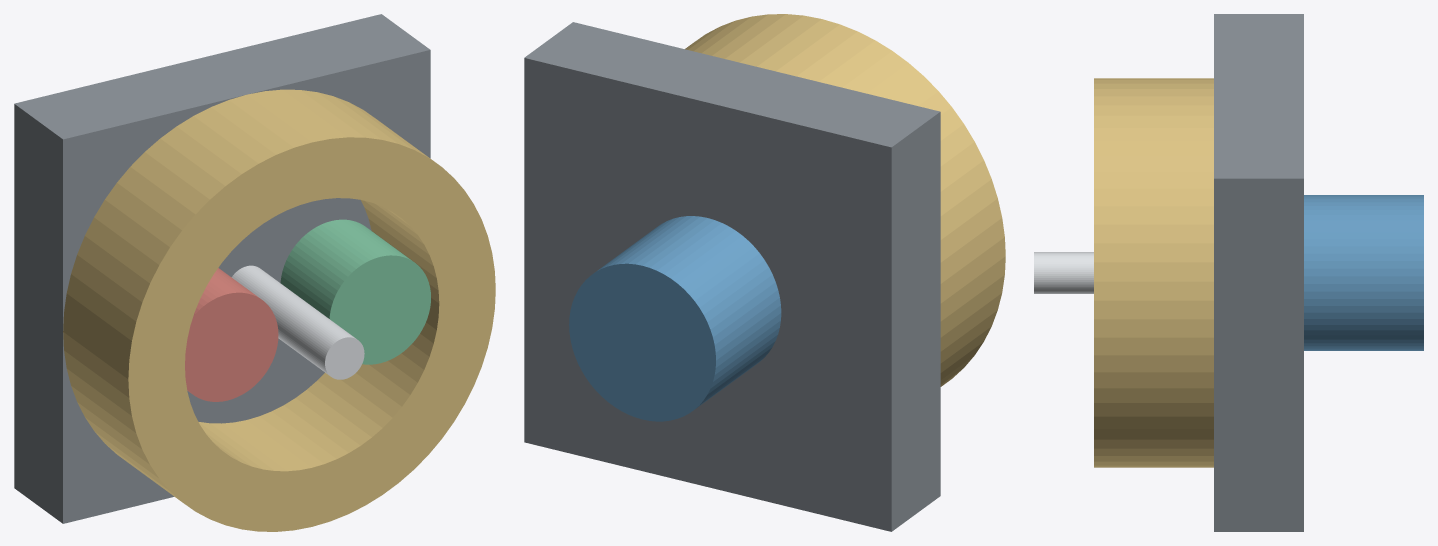
The model's file is pellet.glb.
3 views of the same model, side by side, from view 1: azimuth 30°, elevation 25°; view 2: azimuth 150°, elevation 25°; view 3: azimuth 270°, elevation 25° (orthographic). The views are drawn at different scales.
Parts seen in each view (by area): view 1: ring_die, frame, roller_right, roller_left, shaft; view 2: frame, motor, ring_die; view 3: ring_die, frame, motor, shaft.
Part boxes in pixels (x1,y1,x2,y2): ring_die: [63, 89, 495, 531]; frame: [14, 14, 430, 523]; roller_right: [280, 219, 430, 364]; roller_left: [185, 268, 278, 401]; shaft: [231, 265, 364, 379]; frame: [524, 22, 940, 531]; motor: [569, 216, 781, 421]; ring_die: [685, 14, 1005, 386]; ring_die: [1094, 78, 1213, 467]; frame: [1214, 14, 1303, 531]; motor: [1304, 195, 1423, 350]; shaft: [1034, 252, 1093, 293].
Bounding box in the file's own units: 1.3 × 1.3 × 1.3.
